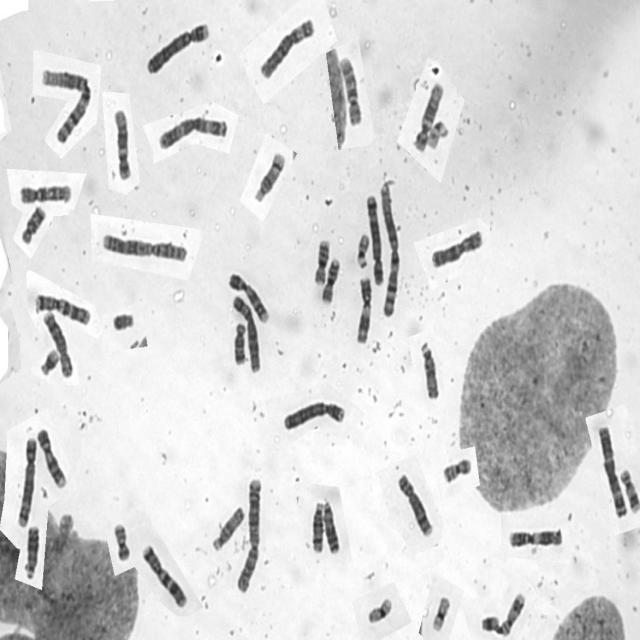A1: (39, 66, 93, 146), (378, 180, 402, 320)
A2: (234, 473, 264, 594), (99, 228, 189, 264)
A3: (595, 421, 629, 519), (156, 112, 228, 152)
B4: (144, 19, 211, 77), (281, 397, 347, 432)
B5: (15, 432, 38, 528), (364, 191, 384, 287)
C10: (338, 53, 364, 128), (18, 181, 73, 205)
C11: (353, 273, 373, 345), (507, 526, 562, 549)
C12: (411, 79, 445, 153), (111, 106, 133, 182)
C6: (258, 15, 316, 80), (230, 291, 262, 374)
C7: (139, 540, 189, 610), (32, 290, 92, 326)
C8: (396, 470, 434, 538), (41, 309, 74, 378)
C9: (227, 269, 270, 324), (35, 425, 68, 490)
D13: (321, 497, 340, 556), (22, 522, 40, 580)
D14: (252, 148, 286, 204), (310, 498, 325, 554)
D15: (209, 504, 246, 553), (418, 338, 440, 401)
E16: (319, 255, 341, 304), (312, 236, 331, 286)
E17: (498, 592, 527, 638), (618, 466, 640, 514)
E18: (19, 202, 48, 246), (231, 321, 248, 366)
F19: (364, 594, 394, 625), (429, 592, 452, 632)
F20: (440, 454, 472, 485), (112, 519, 132, 563)
G21: (38, 346, 61, 377), (479, 613, 500, 632)
G22: (425, 116, 449, 150), (354, 230, 371, 270)
X: (427, 226, 485, 270)
Y: (111, 310, 135, 332)
